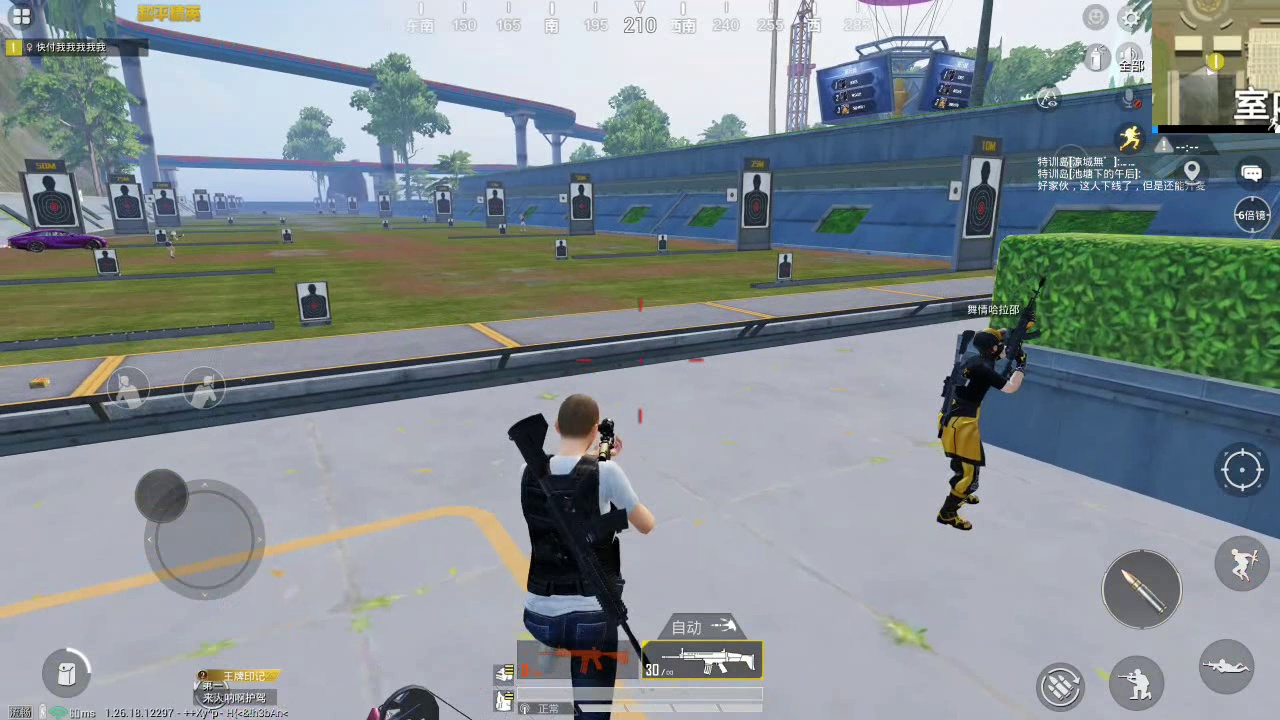enemy: (938, 328, 1018, 532), (161, 229, 183, 261), (320, 392, 322, 394)
